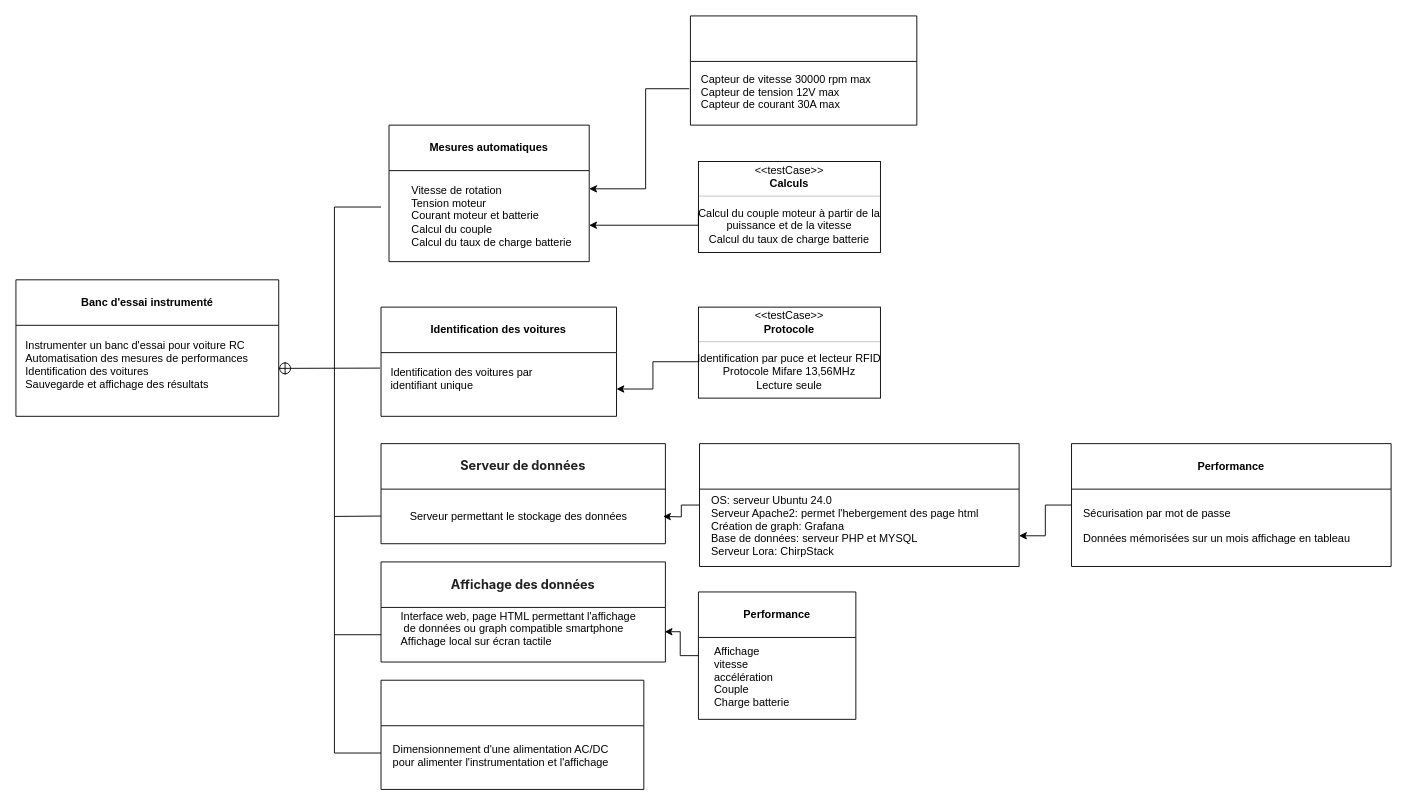
The diagram is 1408 pixels wide and 805 high, and some of its shapes have lost their labels. The box of each missing label's shape, as (x1, y1, x2, y2) in pixels:
Alimentation secteur de la partie instrumentée: (380, 679, 644, 789)
Les capteurs: (690, 15, 917, 125)
OS, Web: (699, 443, 1019, 566)
